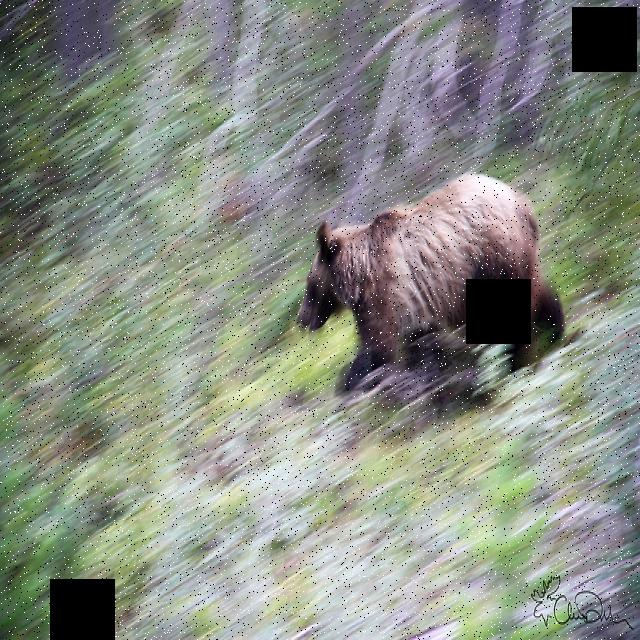Bear: (294, 158, 569, 407)
